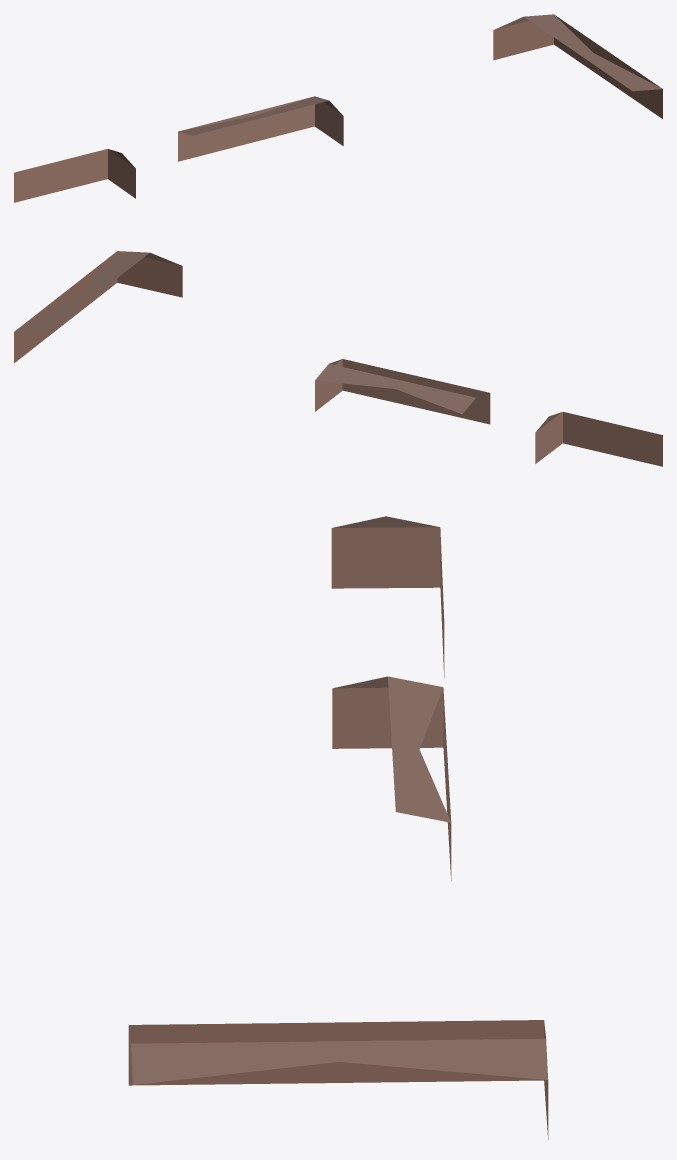
The model's file is c_1630_17838_buildings_residential.glb.
3 renders of one model, top to bottom at view 1: azimuth 30°, elevation 25°; view 2: azimuth 150°, elevation 25°; view 3: azimuth 270°, elevation 25°, orthographic. The views are drawn at different scales.
Parts seen in each view (by area): view 1: geometry_0; view 2: geometry_0; view 3: geometry_0.
Part boxes in pixels (bbox=[...]): geometry_0: bbox=[14, 14, 662, 202]; geometry_0: bbox=[14, 251, 662, 466]; geometry_0: bbox=[128, 516, 548, 1139].
Bounding box in the file's own units: 178 × 10.78 × 56.49.
